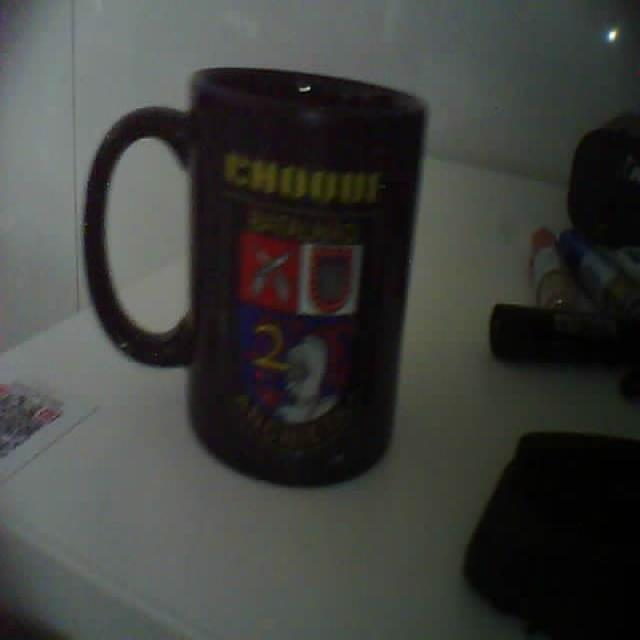caneca: (85, 69, 425, 485)
